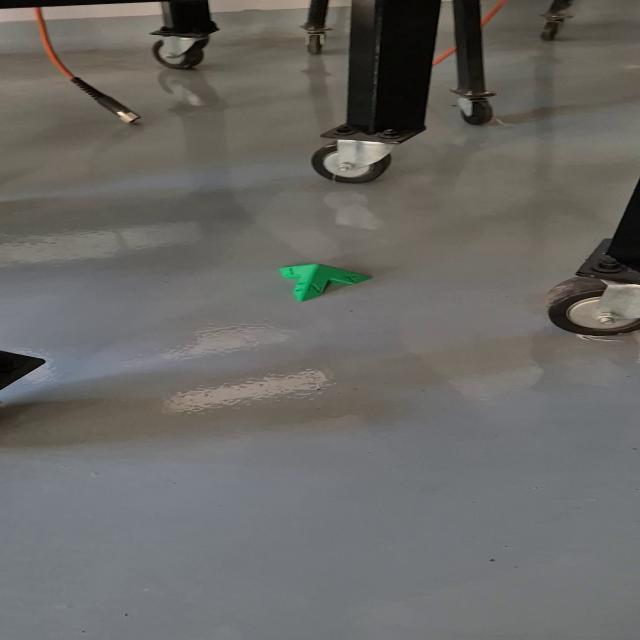eje: (276, 262, 374, 303)
